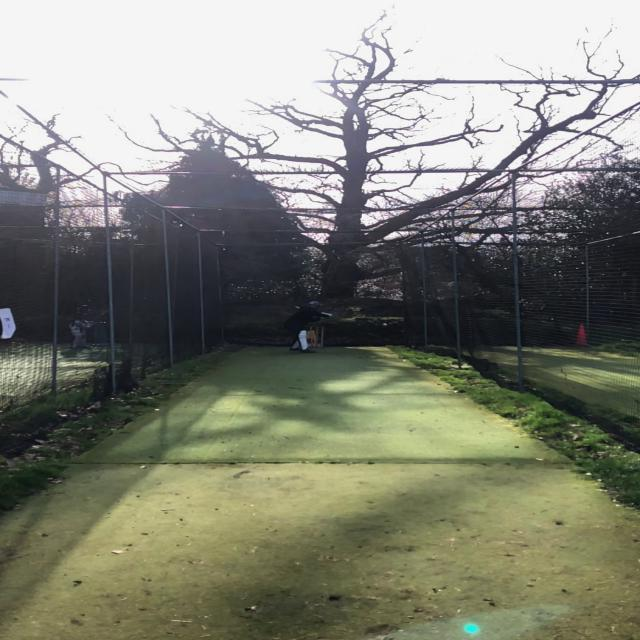ball: (382, 322, 388, 327)
